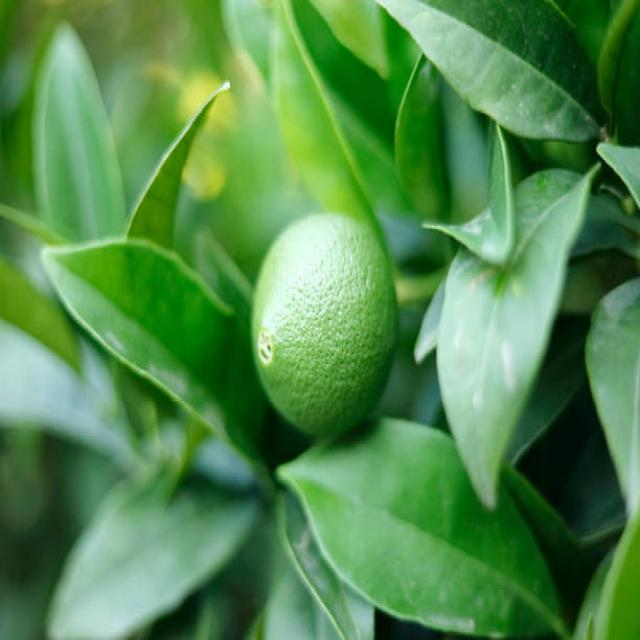Unripe: (251, 215, 398, 440)
